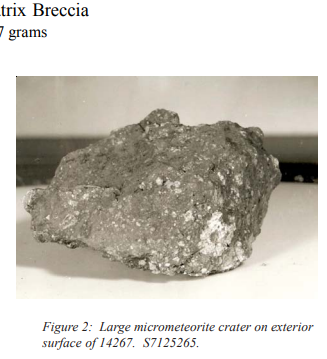Breccia: (25, 117, 298, 288), (63, 142, 239, 248)
